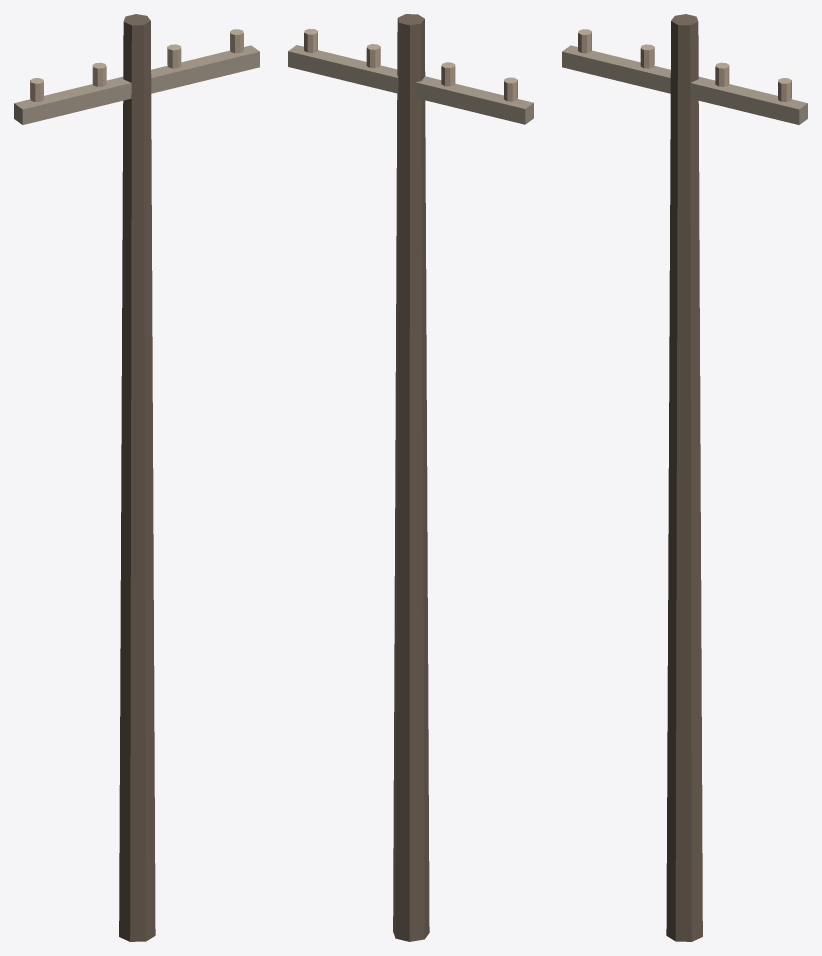
File: TelegraphPole.glb
3 views of the same model, side by side, from view 1: azimuth 30°, elevation 25°; view 2: azimuth 150°, elevation 25°; view 3: azimuth 330°, elevation 25° (orthographic).
Visible parts, largest first — view 1: Limb.132, Crossarm; view 2: Limb.132, Crossarm; view 3: Limb.132, Crossarm.
Part boxes in pixels (<box>): Limb.132: <box>119,14,155,941</box>; Crossarm: <box>14,45,259,124</box>; Limb.132: <box>393,14,429,941</box>; Crossarm: <box>288,45,533,124</box>; Limb.132: <box>666,14,702,941</box>; Crossarm: <box>562,45,807,124</box>.
Size of the model in its own units: 1.9 by 7 by 0.2471.
